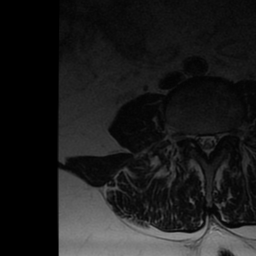CCS_normal: (202, 123, 210, 165)
LFS_stenosis: (220, 122, 230, 148)
LLS_normal: (210, 122, 219, 154)
RFS_severe_stenosis: (186, 122, 195, 148)
RLS_stenosis: (195, 124, 202, 156)
